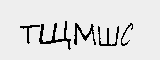М: (72, 22, 98, 49)
С: (118, 21, 136, 48)
Т: (17, 22, 40, 45)
Ш: (95, 25, 120, 48)
Щ: (39, 21, 73, 51)
